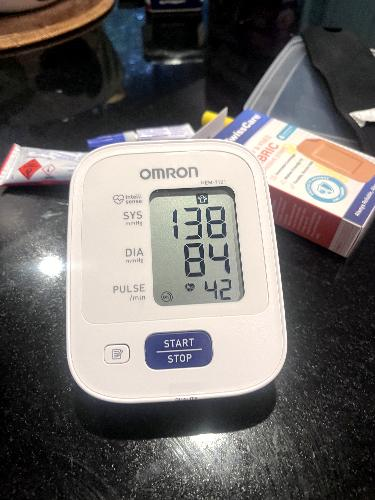bpm: (144, 183, 246, 308)
